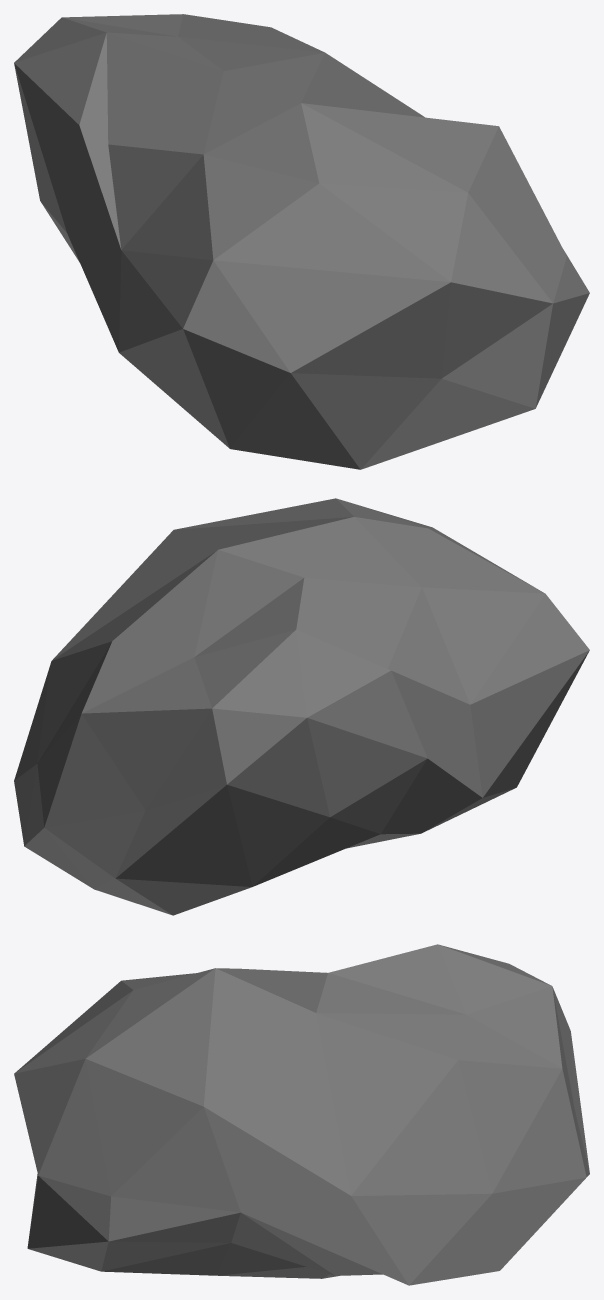
Rendered from Stone_02.fbx.
3 renders of one model, top to bottom at view 1: azimuth 30°, elevation 25°; view 2: azimuth 150°, elevation 25°; view 3: azimuth 270°, elevation 25°, orthographic. The views are drawn at different scales.
Visible parts, largest first — view 1: Stone_02; view 2: Stone_02; view 3: Stone_02.
Boxes of the visible parts, x1=… form: Stone_02: x1=14, y1=14, x2=589, y2=469; Stone_02: x1=14, y1=498, x2=589, y2=915; Stone_02: x1=14, y1=944, x2=589, y2=1285.
Size of the model in its own units: 108 by 75.26 by 146.
1 material, 1 textured.
